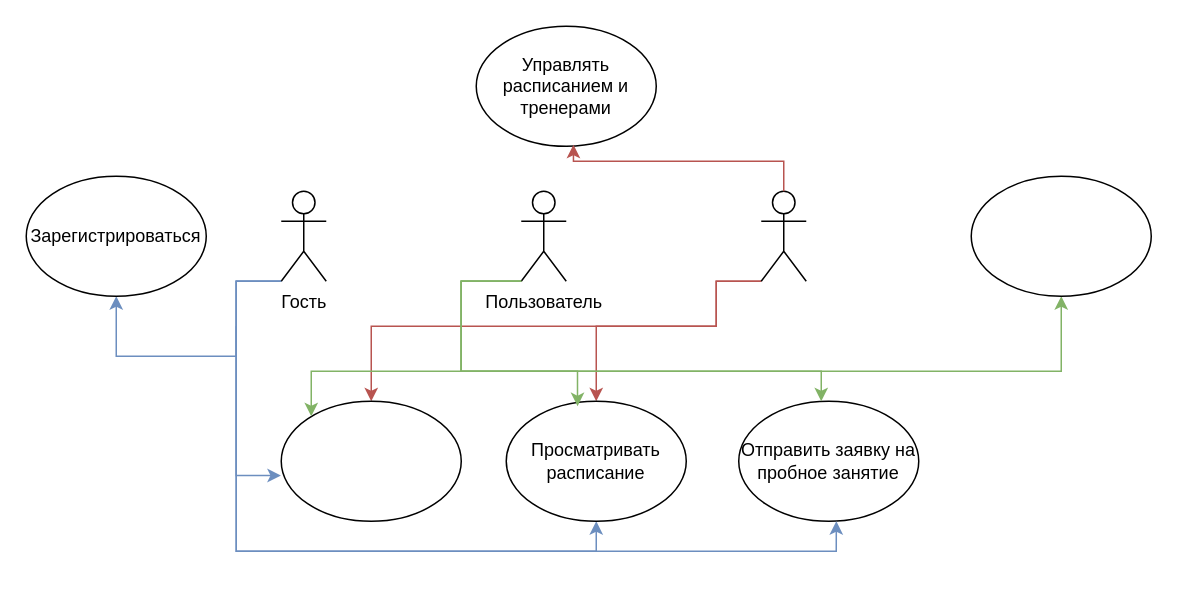
The diagram is 1178 pixels wide and 590 high, and some of its shapes have lost their labels. The shapes that lost their labels are listed below. From the top down, each one's centre as x and y in pixels, then its label:
point (783, 235): Администратор
point (1060, 235): Войти
point (370, 460): Читать блог
